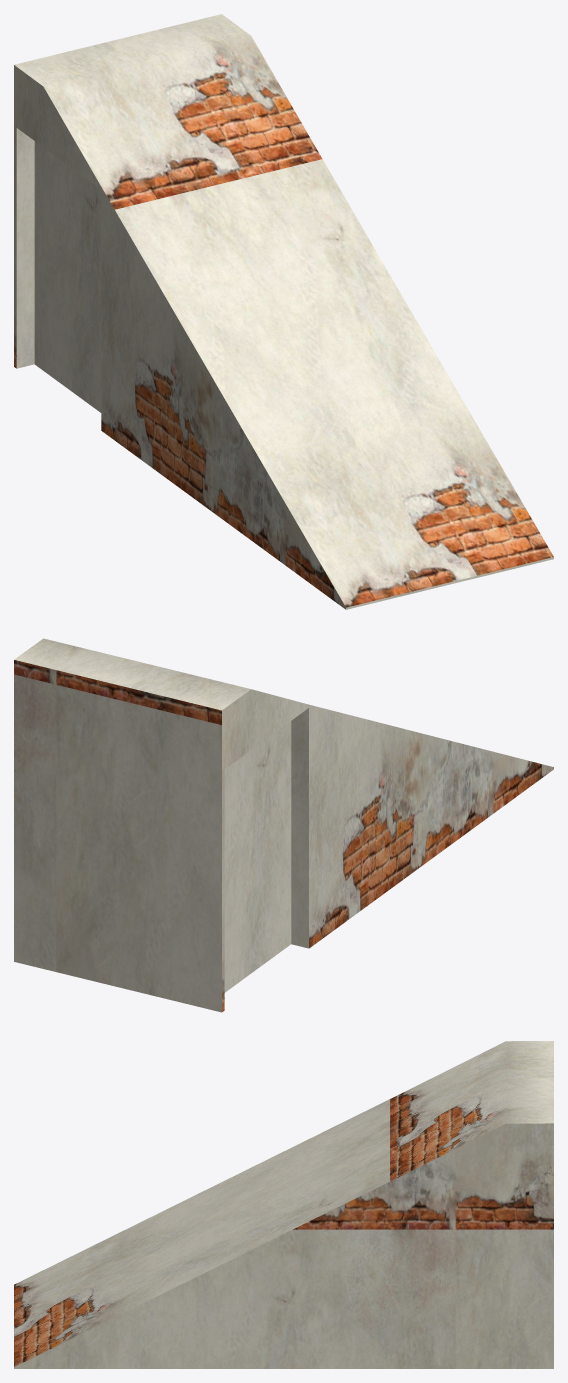
The model's file is RC_Small_Building_04_Wall_01.gltf.
3 renders of one model, top to bottom at view 1: azimuth 30°, elevation 25°; view 2: azimuth 150°, elevation 25°; view 3: azimuth 270°, elevation 25°, orthographic. The views are drawn at different scales.
Visible parts, largest first — view 1: RC_Small_Building_04_Wall_01(Clone); view 2: RC_Small_Building_04_Wall_01(Clone); view 3: RC_Small_Building_04_Wall_01(Clone).
Boxes of the visible parts, box(x1,y1,x2,y2) form: RC_Small_Building_04_Wall_01(Clone): box(14, 14, 553, 609); RC_Small_Building_04_Wall_01(Clone): box(14, 638, 553, 1012); RC_Small_Building_04_Wall_01(Clone): box(14, 1041, 553, 1368).
Bounding box in the file's own units: 1.78 × 2.48 × 4.94.
1 material, 1 textured.
